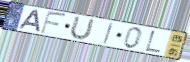0: (122, 26, 144, 50)
A: (17, 8, 42, 33)
F: (39, 10, 68, 36)
I: (102, 22, 116, 46)
L: (144, 30, 163, 55)
U: (67, 15, 96, 42)
